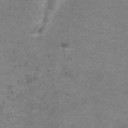finishing roll printing: (38, 0, 55, 34), (61, 43, 68, 48)
